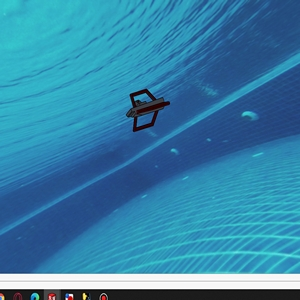submarine: (125, 93, 170, 135)
